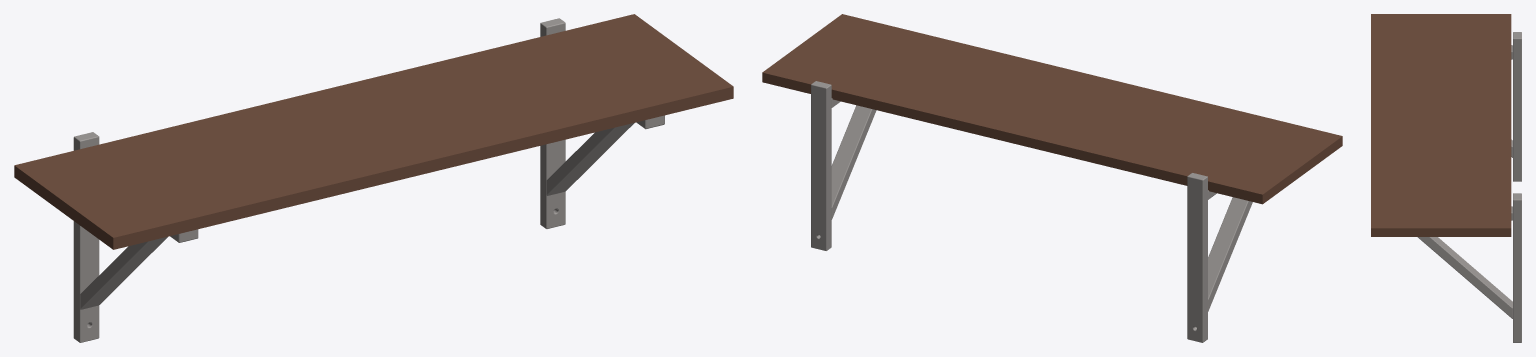
File: raf.fbx
3 views of the same model, side by side, from view 1: azimuth 30°, elevation 25°; view 2: azimuth 150°, elevation 25°; view 3: azimuth 270°, elevation 25° (orthographic). The views are drawn at different scales.
Parts seen in each view (by area): view 1: Cube, Left bracket, Right bracket; view 2: Cube, Left bracket, Right bracket; view 3: Cube, Right bracket, Left bracket.
Boxes of the visible parts, x1,y1,x2,y2 form: Cube: (14, 14, 733, 249); Left bracket: (73, 132, 198, 342); Right bracket: (540, 18, 664, 228); Cube: (762, 14, 1342, 204); Left bracket: (1187, 173, 1252, 342); Right bracket: (811, 81, 876, 250); Cube: (1371, 14, 1511, 236); Right bracket: (1417, 193, 1521, 342); Left bracket: (1511, 32, 1521, 181).
Size of the model in its own units: 200 by 62.4 by 59.53.
